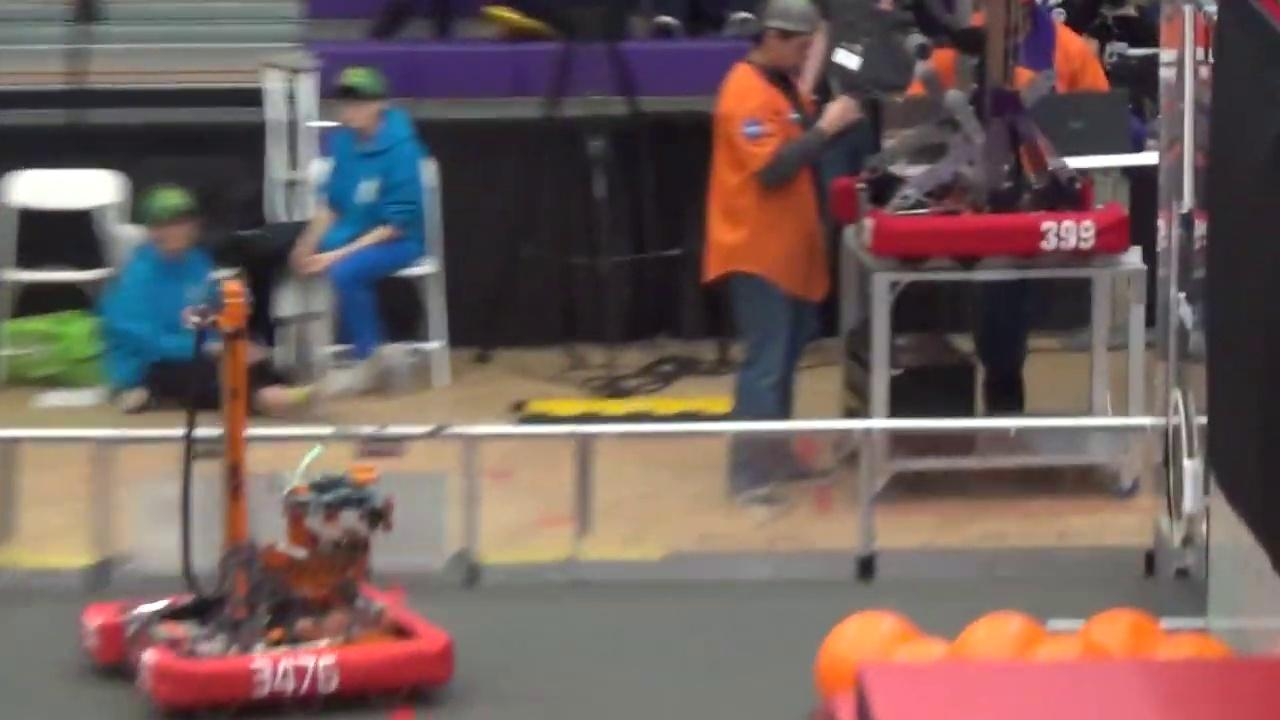robot: (77, 270, 460, 713)
